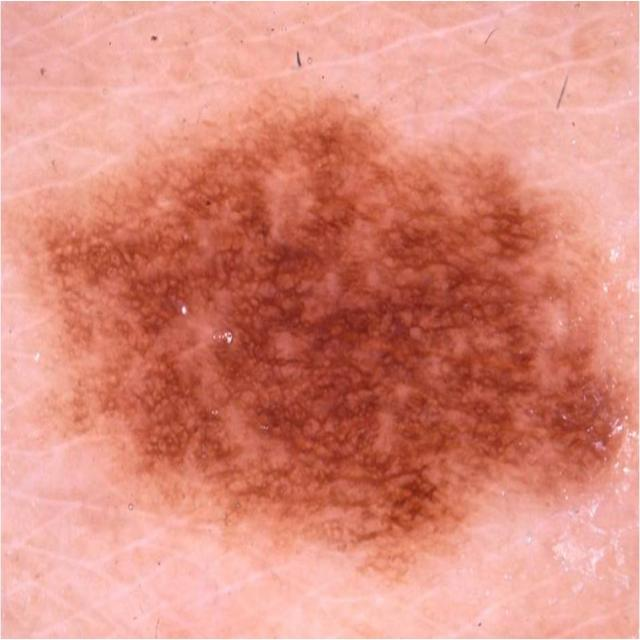Benign: (21, 93, 632, 580)
